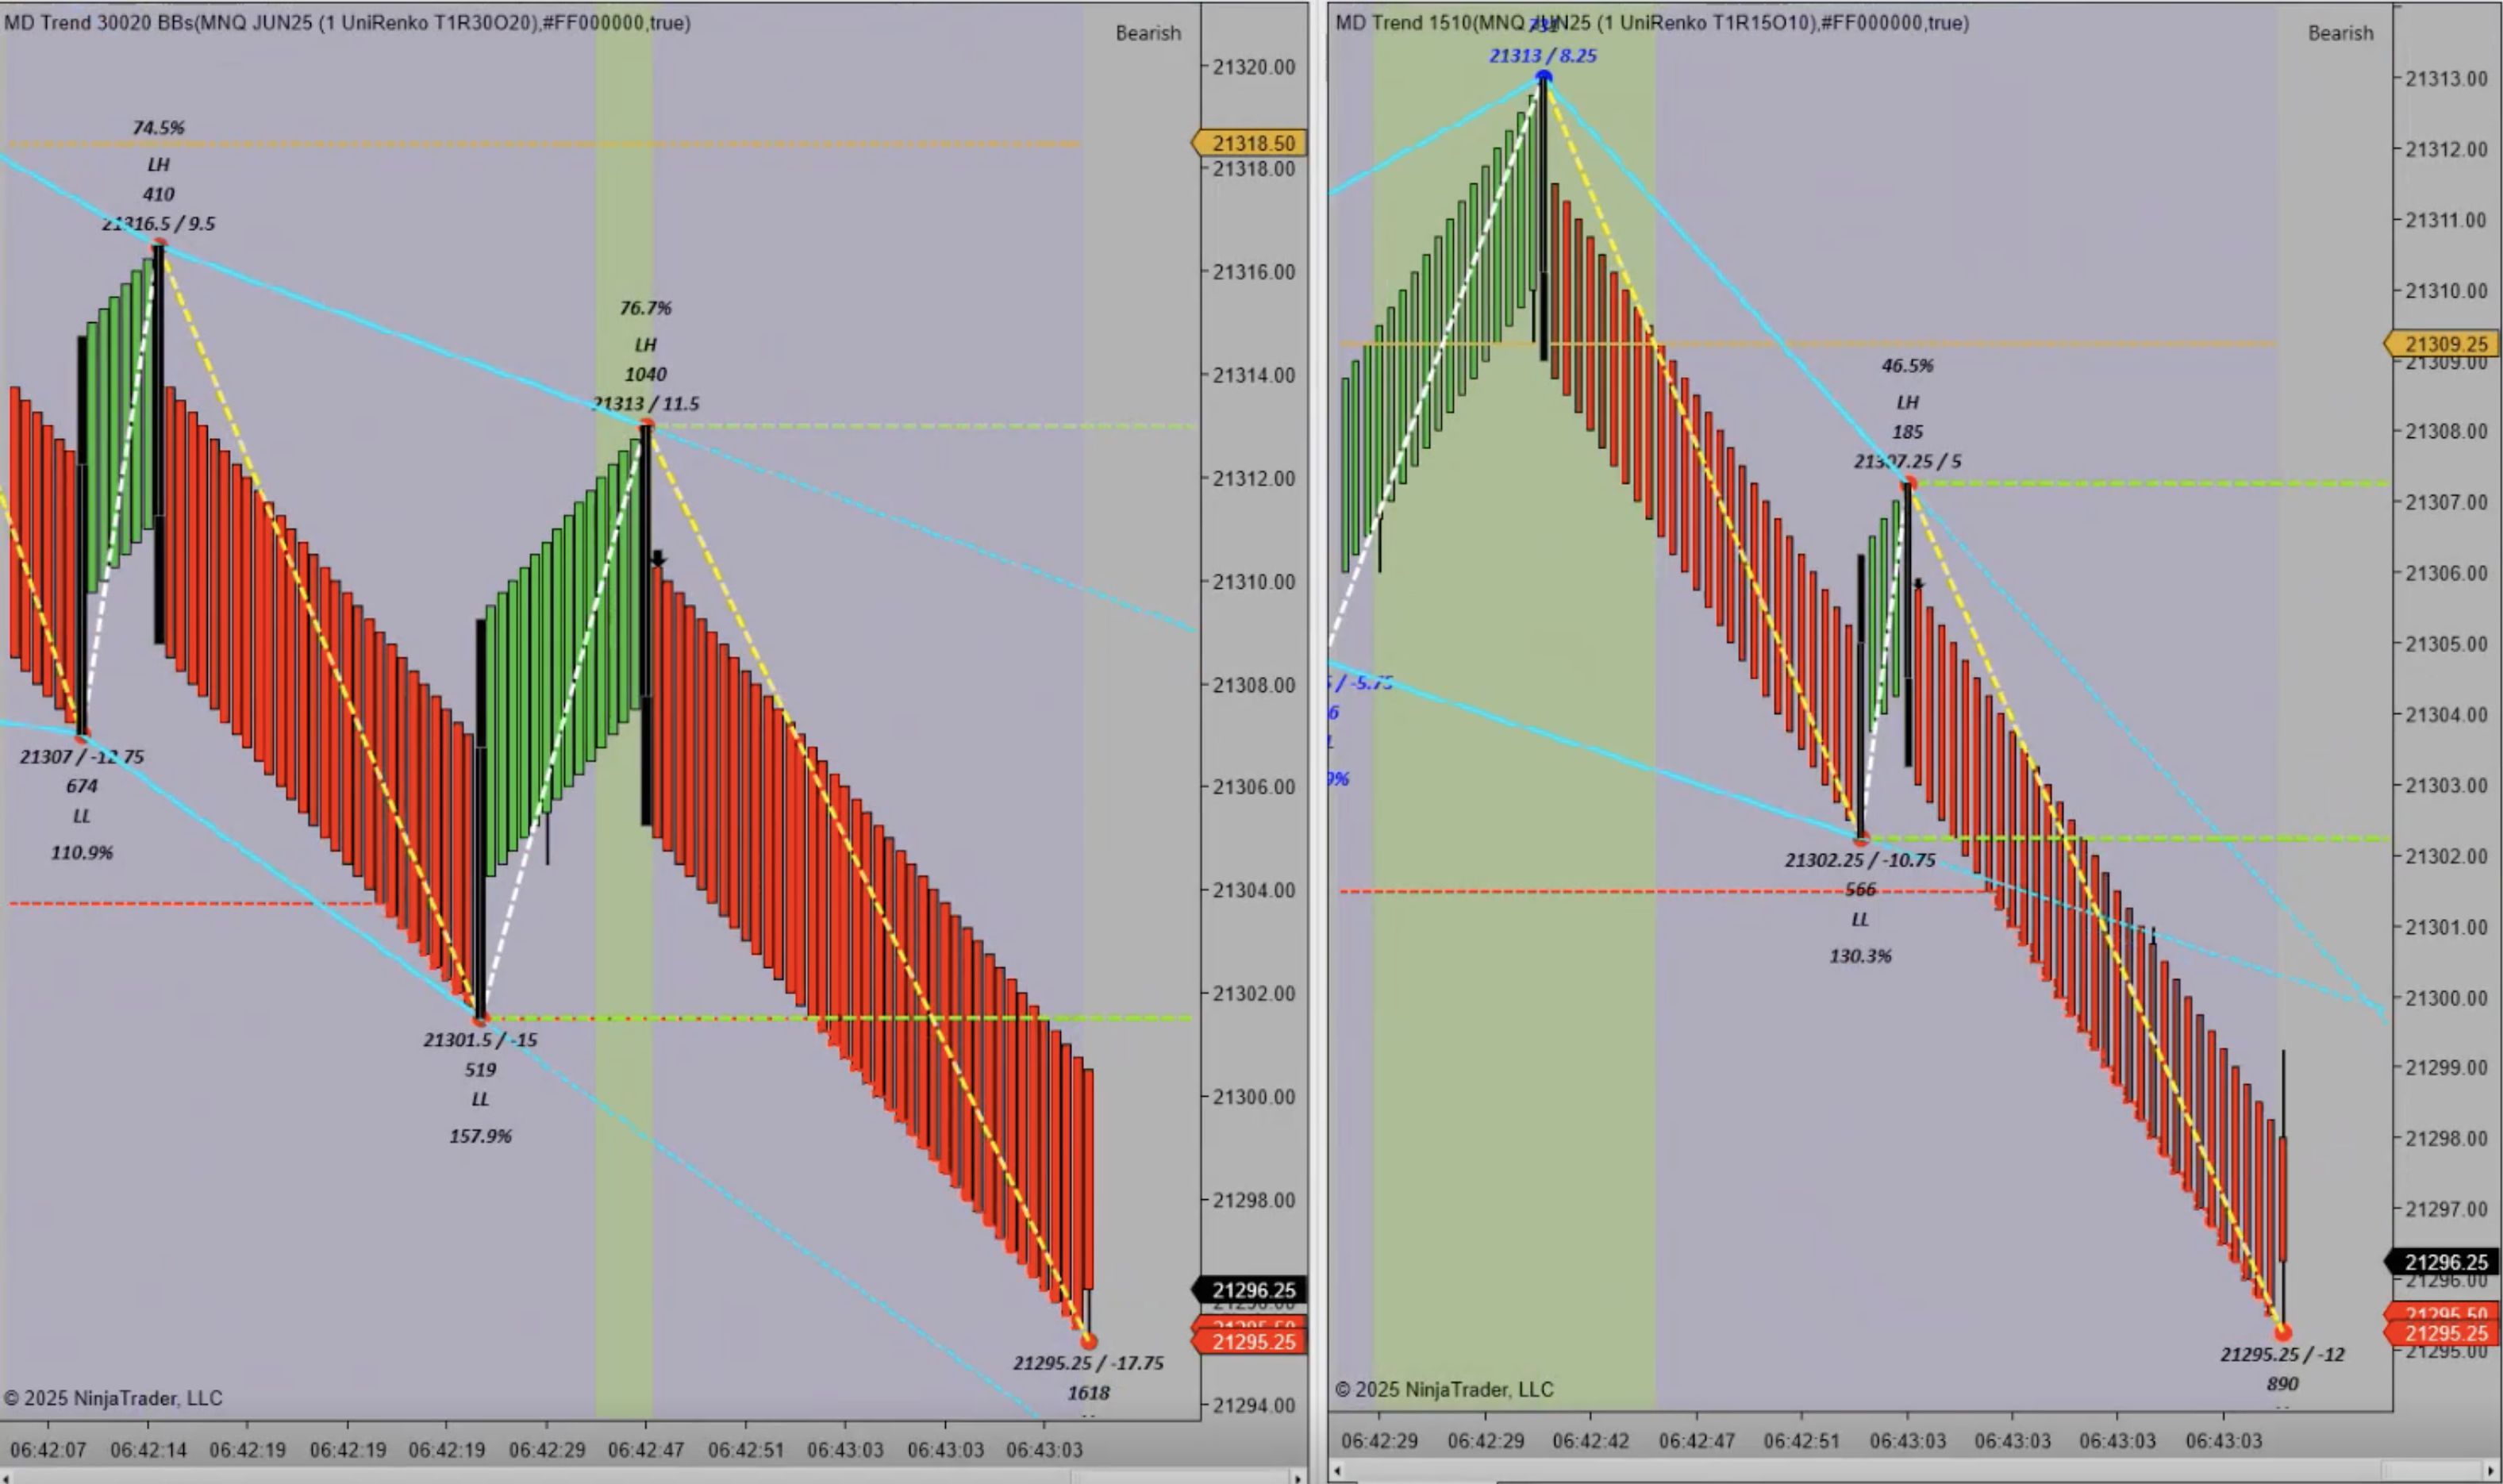candle: (634, 422, 657, 834), (473, 617, 495, 1026), (74, 336, 90, 740), (154, 240, 168, 657), (1901, 477, 1920, 776), (1535, 74, 1553, 373), (1858, 553, 1869, 844)
